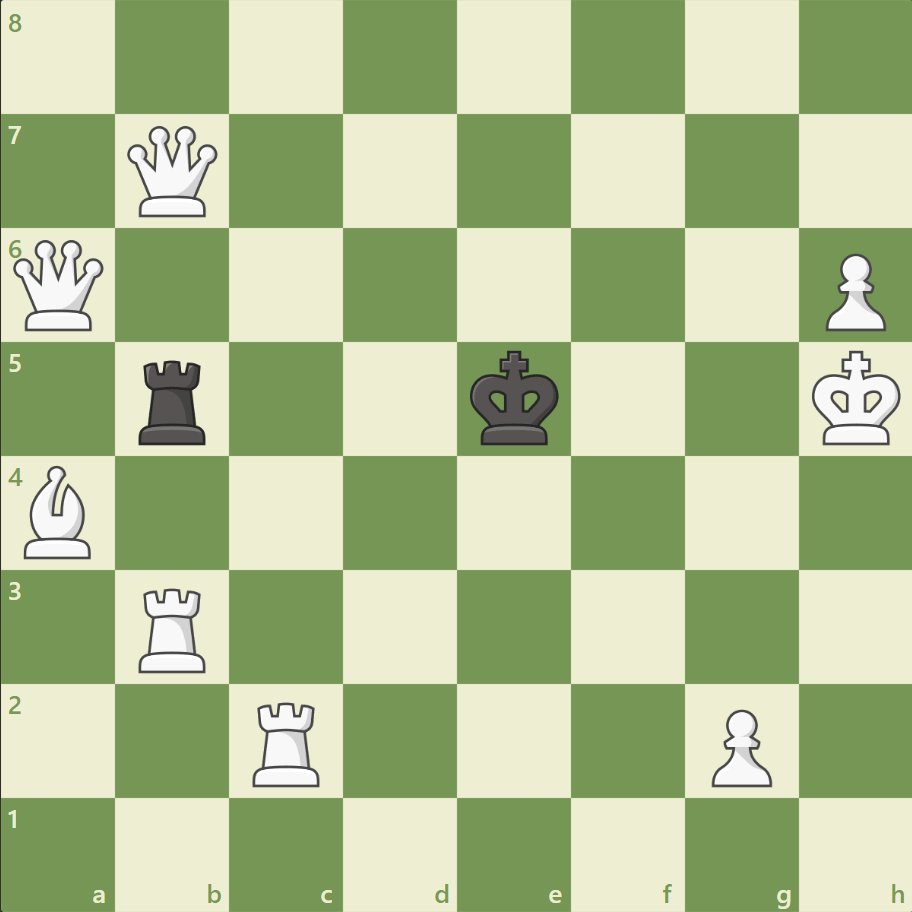B: (17, 460, 101, 563)
K: (806, 344, 906, 452)
P: (701, 700, 776, 791), (815, 246, 889, 337)
Q: (124, 122, 223, 222), (10, 236, 109, 335)
R: (246, 693, 329, 790), (133, 579, 215, 676)
k: (465, 344, 565, 452)
r: (133, 352, 215, 449)
